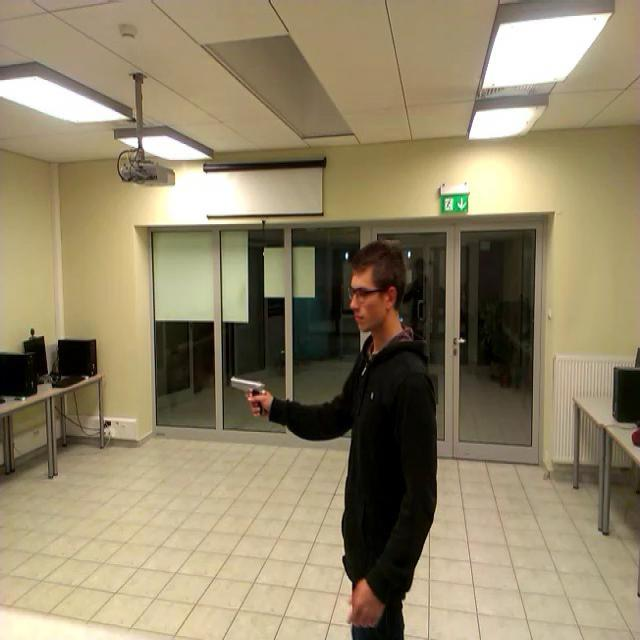weapon: (230, 376, 266, 418)
